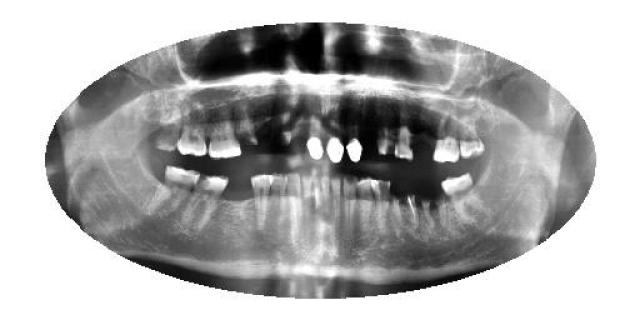Cavity: (419, 190, 449, 229), (390, 189, 420, 226)
Fillings: (206, 104, 242, 160), (305, 113, 326, 165), (325, 110, 345, 164), (347, 101, 362, 164)
